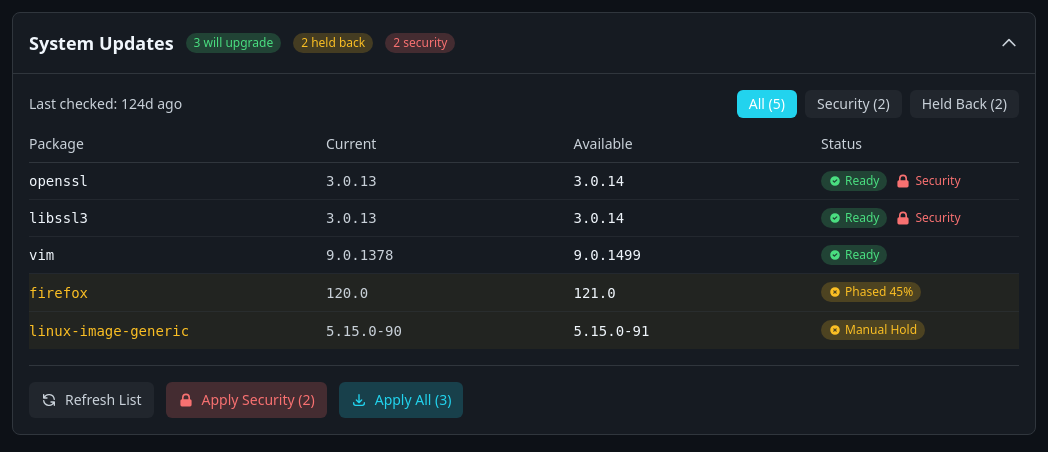
Test: PackageList › filter toggle (US0051 AC4, US0198) › shows all packages when All filter clicked
The width and height of the screenshot is (1048, 452).
# First filter to security
Click the button with test id "filter-security".
click(853, 104)  # box [805,90,902,118]
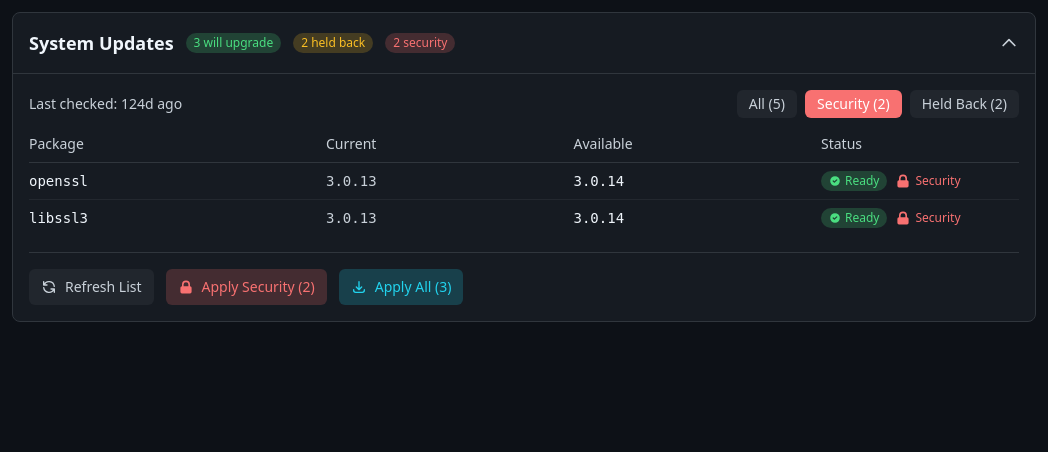
Check: the text "vim" is gone
# Then click All
Click the button with test id "filter-all".
click(767, 104)  # box [737,90,797,118]
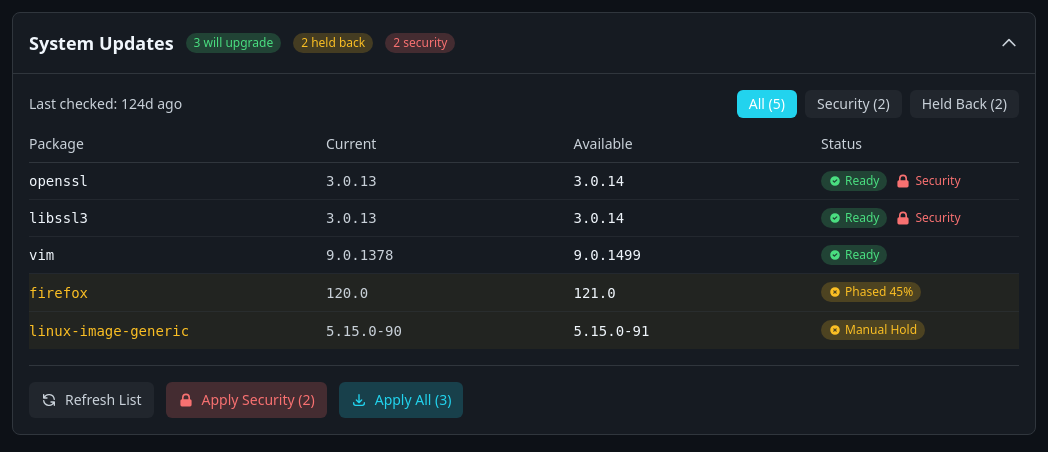
Check: the text "vim" is shown, box [29,247,54,263]
Check: the text "firefox" is shown, box [29,284,88,300]
